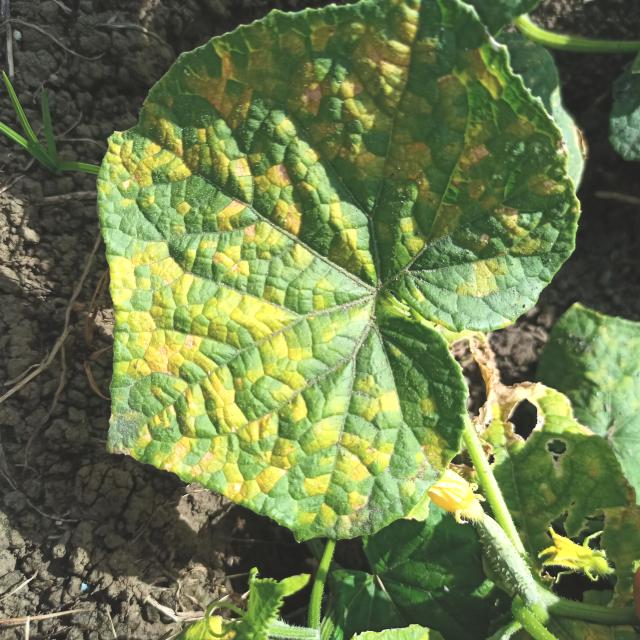disease_cucumber: (107, 12, 545, 525)
